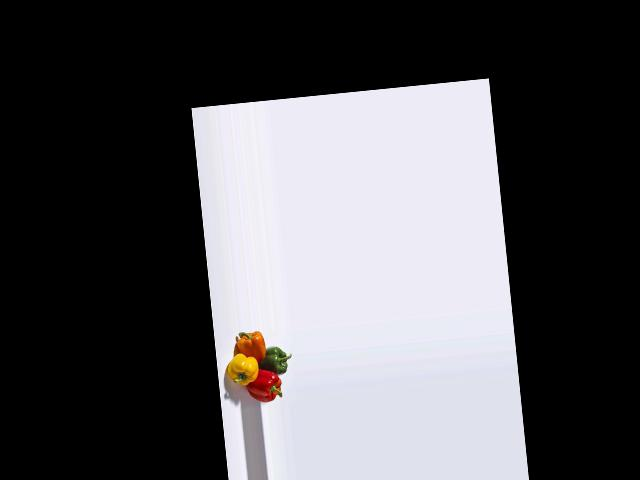bell_pepper: (245, 367, 286, 405)
